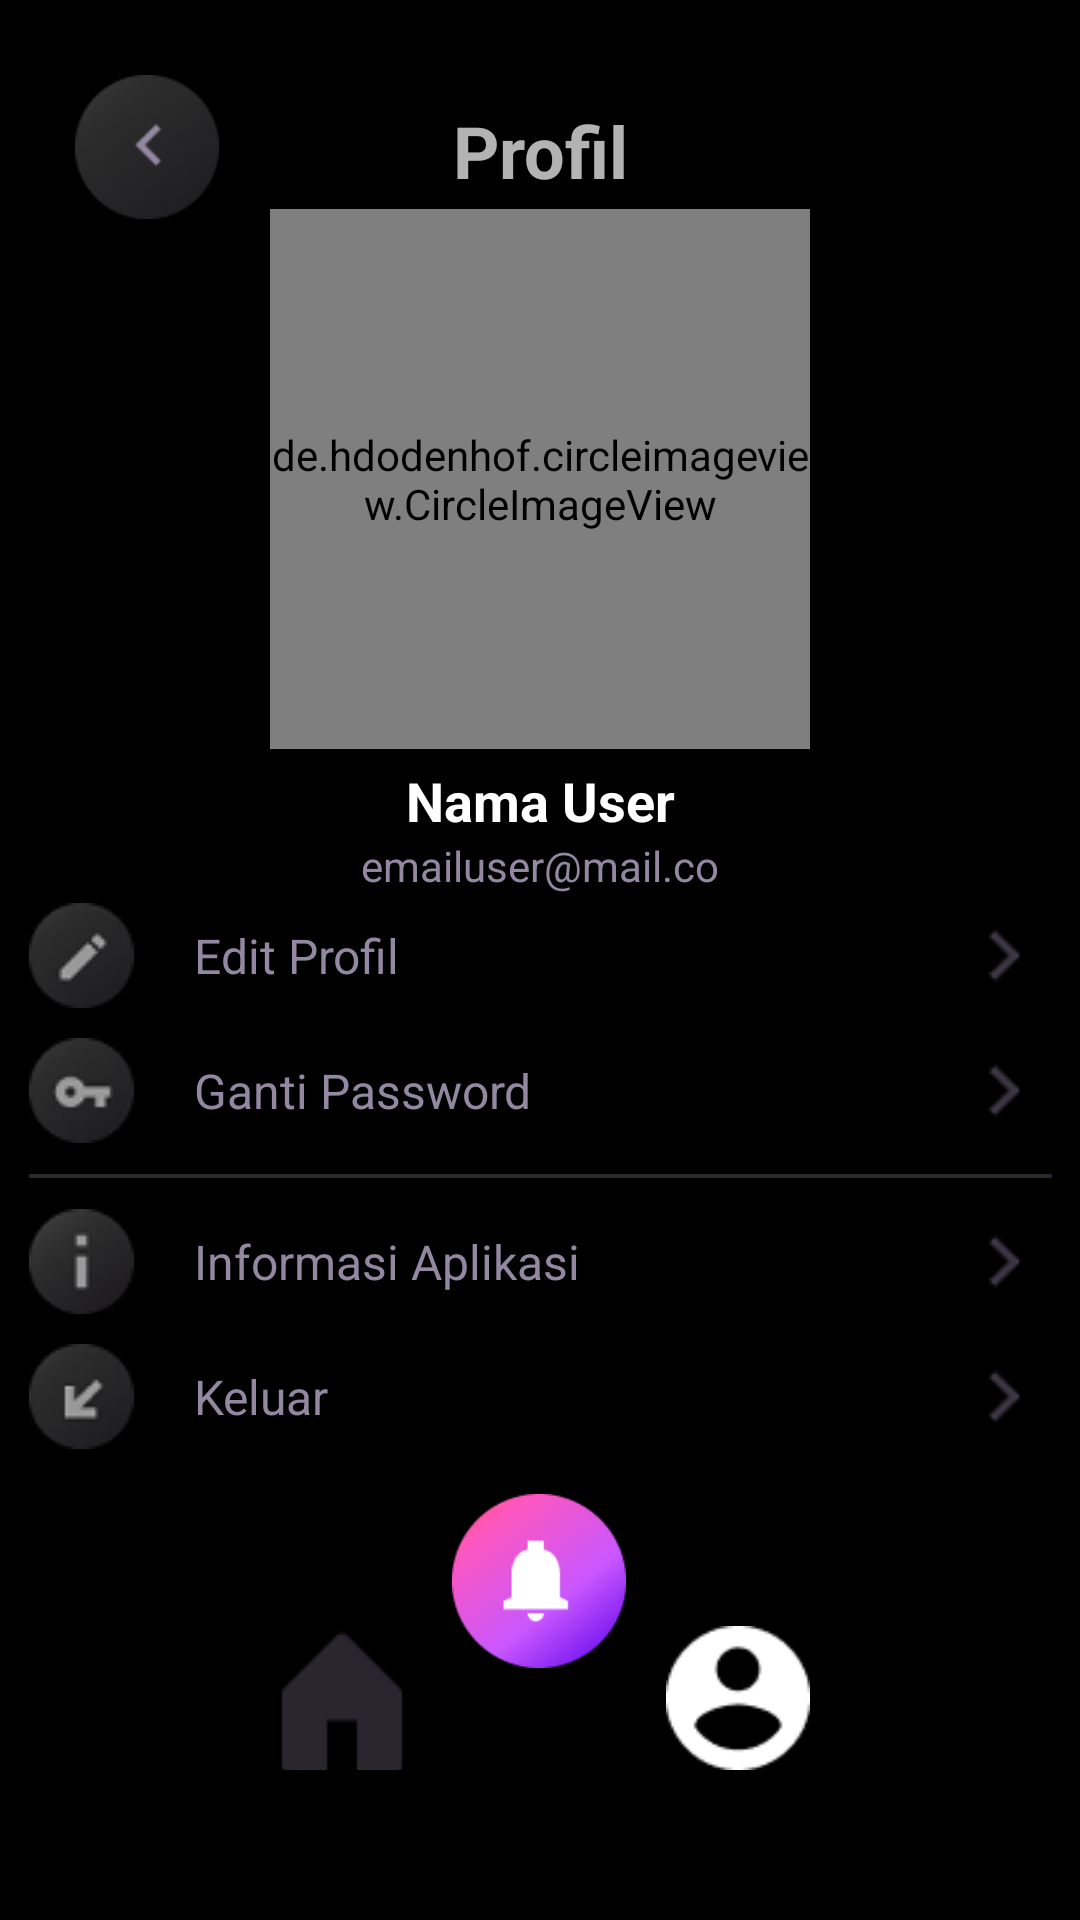

Screen size 1080w x 1920h. Icon name, then its box in pixels as (x1, y1, x2, y2):
back: (75, 75, 219, 219)
btnhome off: (282, 1634, 402, 1770)
btnprof on: (666, 1626, 810, 1770)
ring: (452, 1494, 626, 1668)
